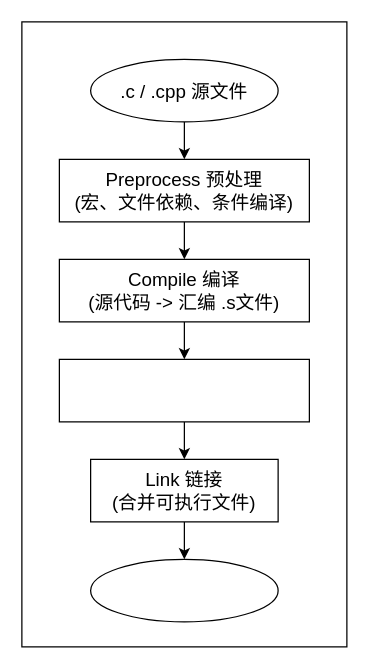
Image size: 369x669. Some labels were removed from this diagram. The centre of each missing label's shape, as x and y in pixels:
Assemble 汇编 (汇编 -> 二进制 .o文件): the point at 183,390
可执行程序: the point at 183,590
